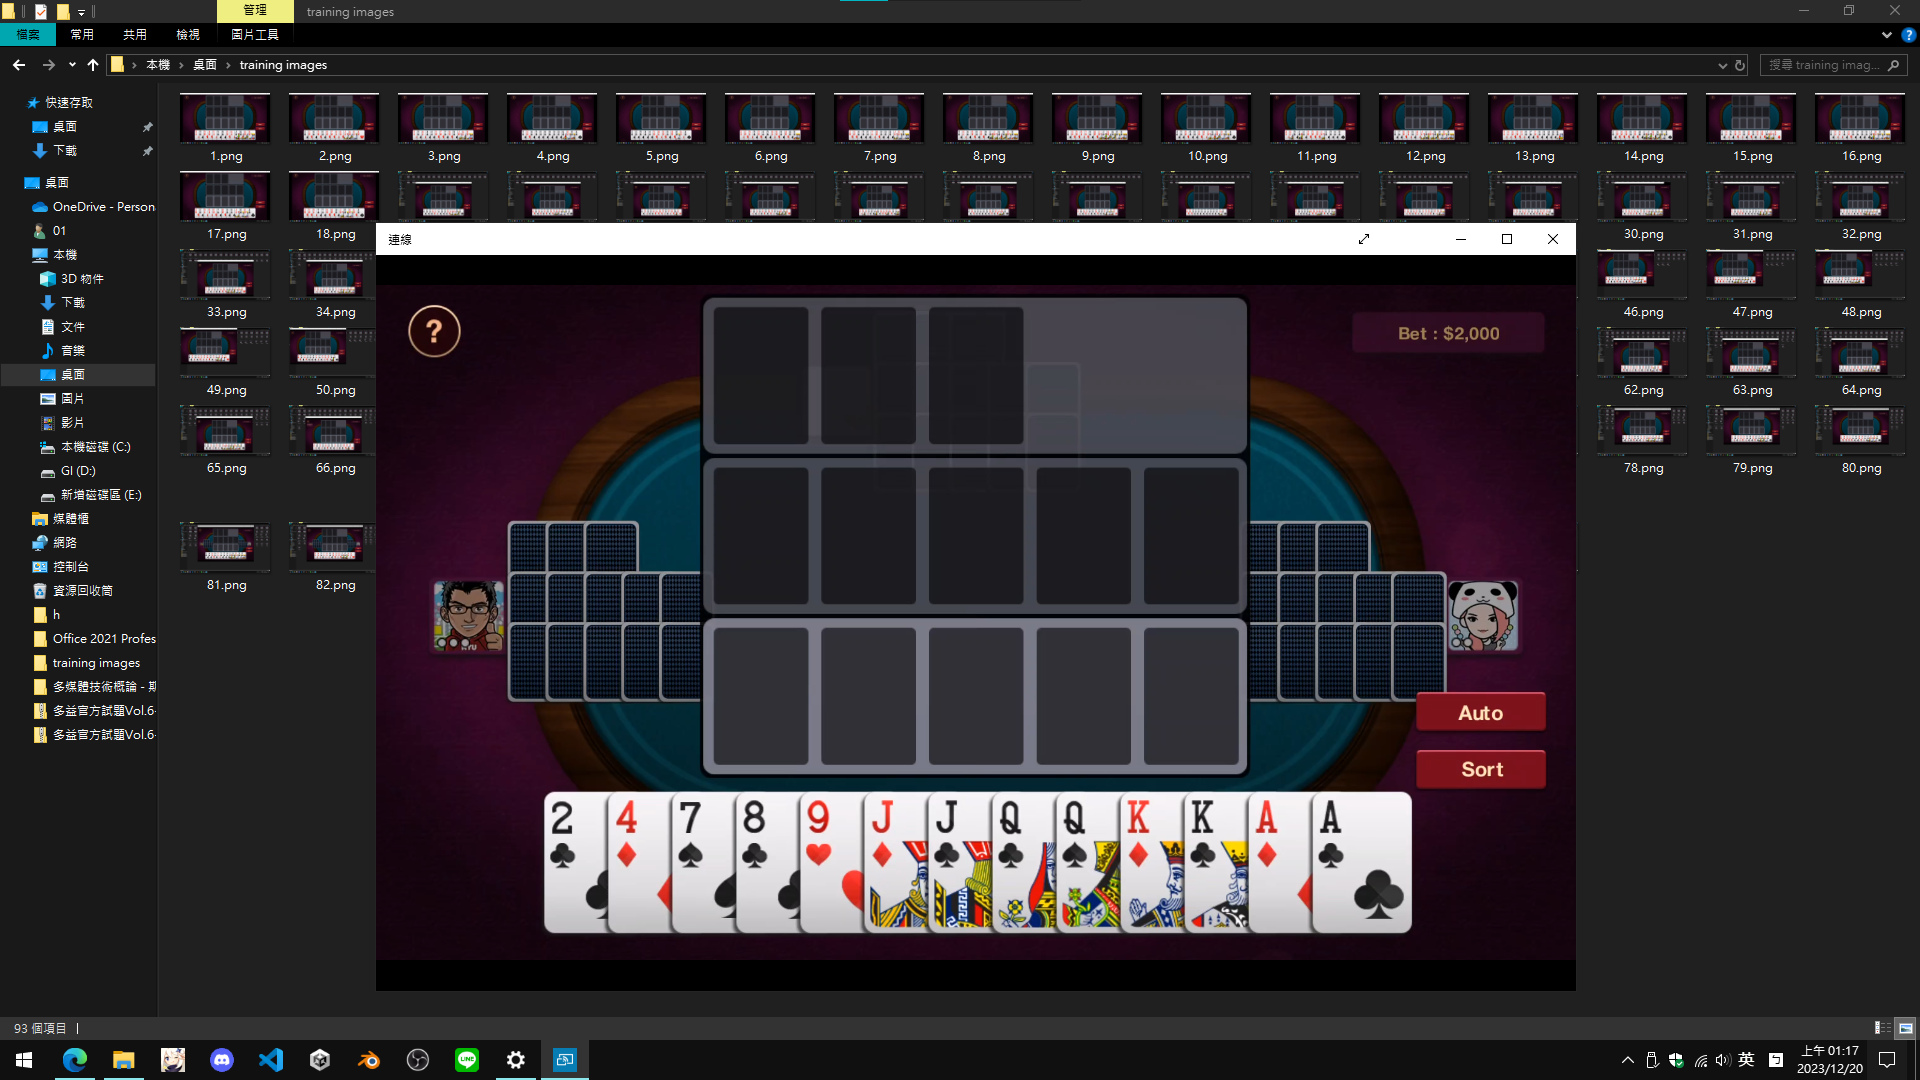2C: (550, 798, 578, 874)
4D: (612, 798, 640, 872)
7S: (676, 796, 708, 870)
8C: (738, 799, 771, 876)
9H: (803, 798, 835, 868)
AC: (1316, 799, 1345, 872)
AD: (1251, 800, 1280, 870)
JC: (932, 796, 961, 872)
JD: (868, 798, 897, 870)
KC: (1189, 798, 1217, 870)
KD: (1124, 795, 1151, 873)
QC: (996, 799, 1027, 872)
QS: (1060, 799, 1089, 873)
